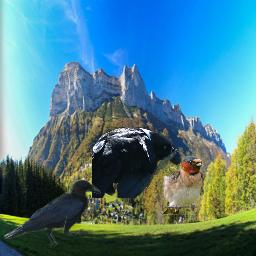Crow: (4, 179, 101, 248), (92, 127, 183, 198)
Swallow: (162, 156, 205, 215)
